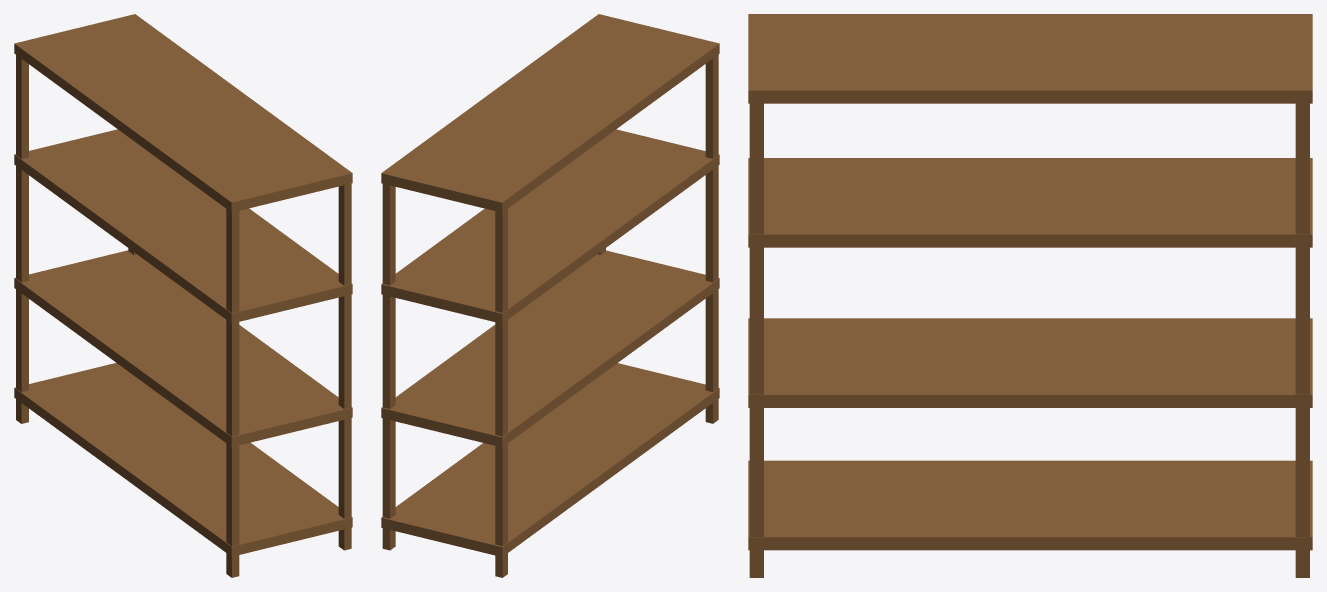
File: Shelves.fbx
3 views of the same model, side by side, from view 1: azimuth 30°, elevation 25°; view 2: azimuth 150°, elevation 25°; view 3: azimuth 270°, elevation 25° (orthographic). The views are drawn at different scales.
Visible parts, largest first — view 1: pCube47; view 2: pCube47; view 3: pCube47.
Boxes of the visible parts, x1,y1,x2,y2 form: pCube47: (14,14,352,577); pCube47: (381,14,719,577); pCube47: (748,14,1312,577).
Size of the model in its own units: 2.69 by 7.98 by 8.37.
